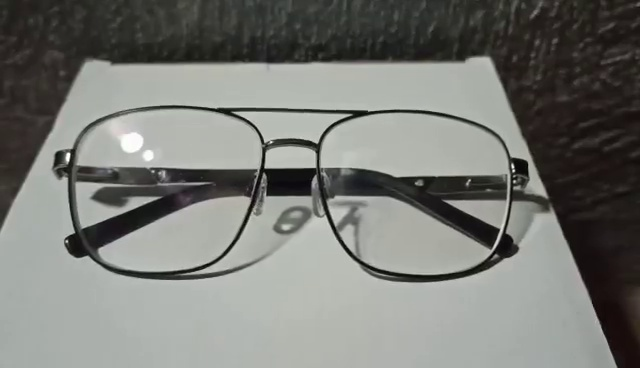glasses: (55, 105, 530, 281)
